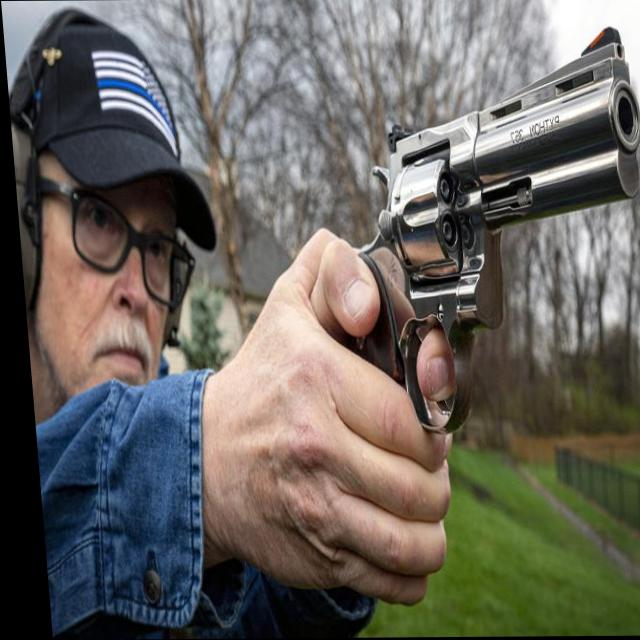handgun: (287, 14, 640, 551)
